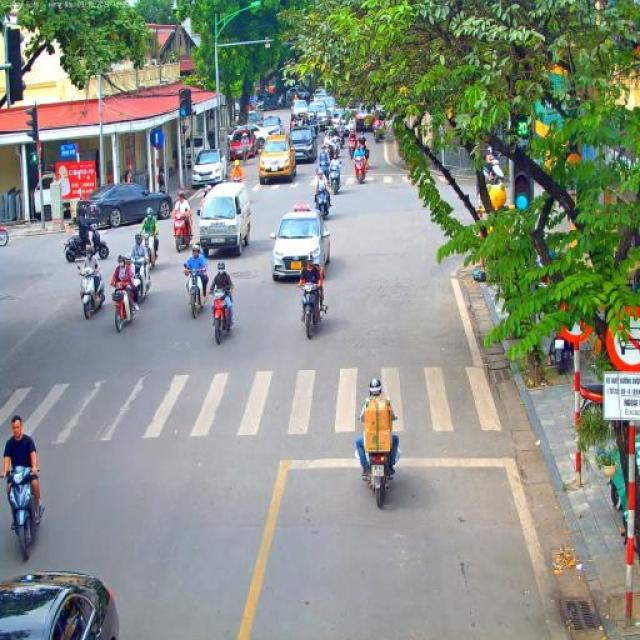car: (0, 571, 119, 639), (270, 204, 330, 282), (76, 182, 172, 228), (258, 135, 297, 185), (192, 150, 228, 184), (288, 125, 318, 164), (231, 124, 271, 148), (355, 100, 384, 132), (333, 108, 356, 141), (229, 130, 255, 158), (307, 101, 328, 135), (313, 96, 336, 126), (260, 116, 284, 135), (291, 100, 310, 124), (244, 110, 262, 124), (263, 94, 277, 110), (292, 87, 308, 99), (312, 89, 328, 100)
motorcycle: (0, 462, 45, 560), (353, 432, 402, 508), (63, 223, 109, 263), (296, 282, 328, 339), (76, 265, 106, 319), (207, 287, 234, 344), (183, 262, 207, 318), (112, 281, 134, 334), (130, 256, 152, 302), (171, 210, 194, 252), (550, 330, 571, 374), (580, 382, 604, 417), (141, 231, 159, 270), (314, 185, 330, 221), (478, 165, 504, 187), (352, 155, 368, 184), (356, 144, 372, 168), (328, 167, 342, 191), (316, 160, 330, 184), (326, 135, 342, 155), (347, 140, 359, 160), (289, 120, 302, 136), (374, 126, 385, 142), (340, 128, 350, 144), (336, 131, 344, 149), (322, 144, 332, 154), (307, 124, 314, 138)
truck: (197, 182, 252, 257), (31, 167, 81, 221), (278, 87, 298, 107)
